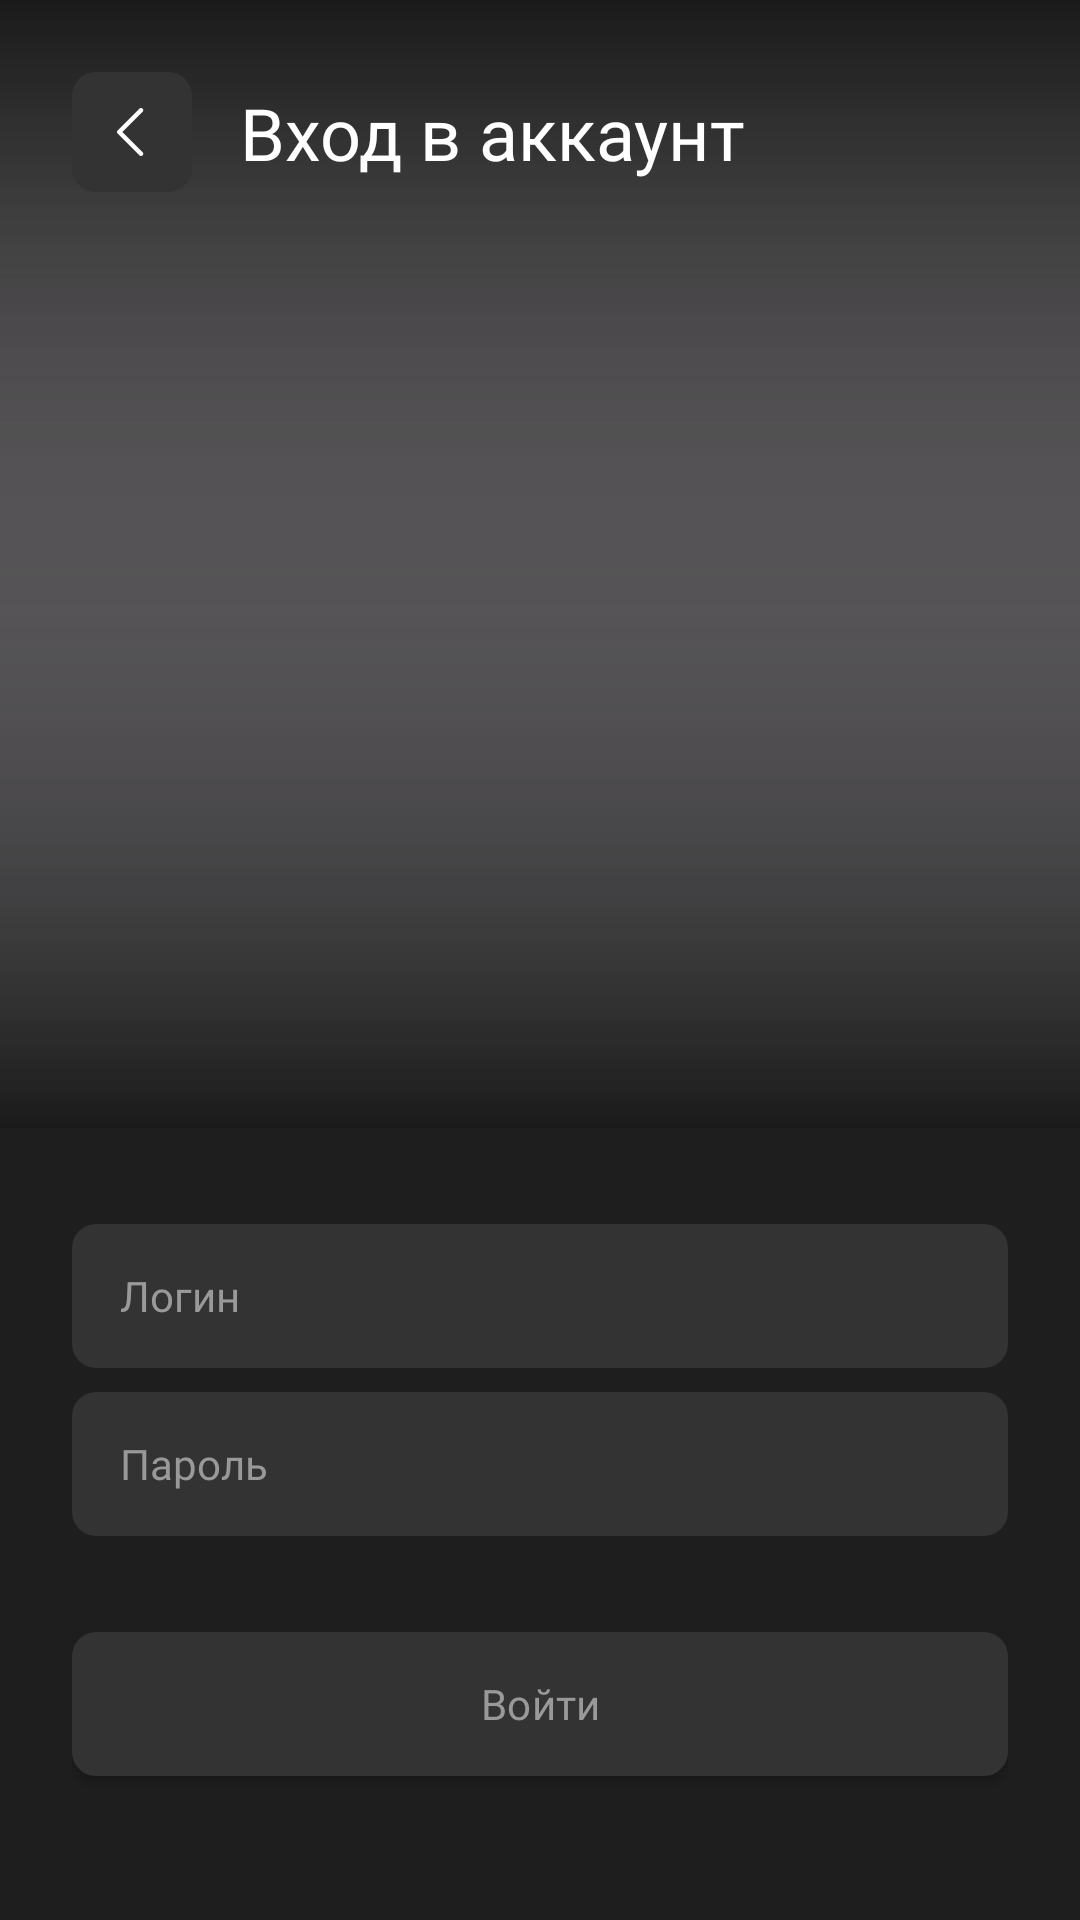

Where to tap for icons on this 1080px×1920px app screen, as (x,y):
Return to welcome screen: (130,132)
